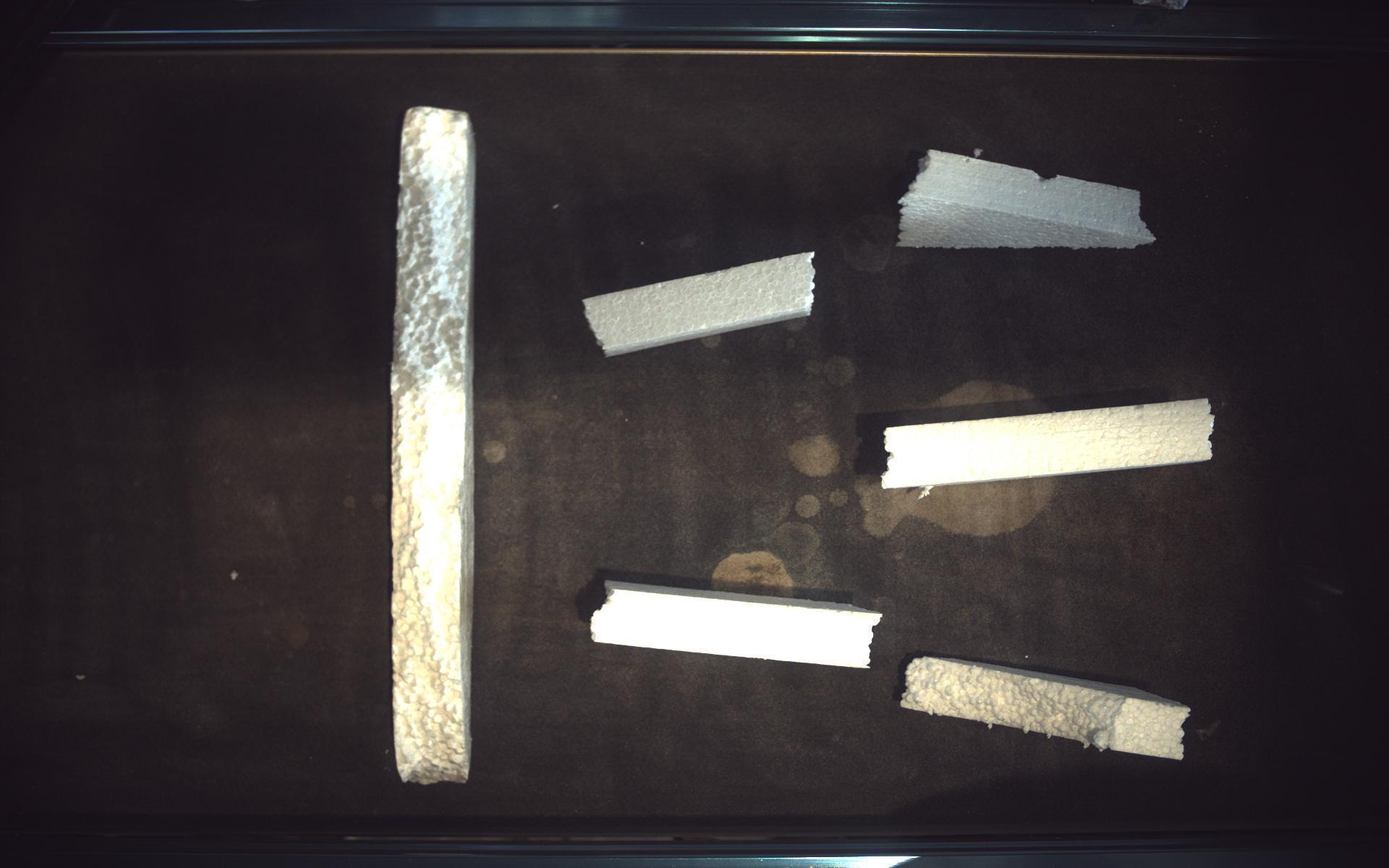foam: (391, 106, 475, 786), (883, 399, 1217, 489), (902, 659, 1193, 761), (592, 581, 883, 669), (901, 149, 1157, 248), (584, 252, 815, 356)
